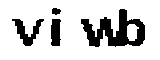b: (117, 6, 148, 49)
i: (44, 2, 66, 49)
v: (6, 17, 42, 48)
w: (76, 15, 123, 49)
